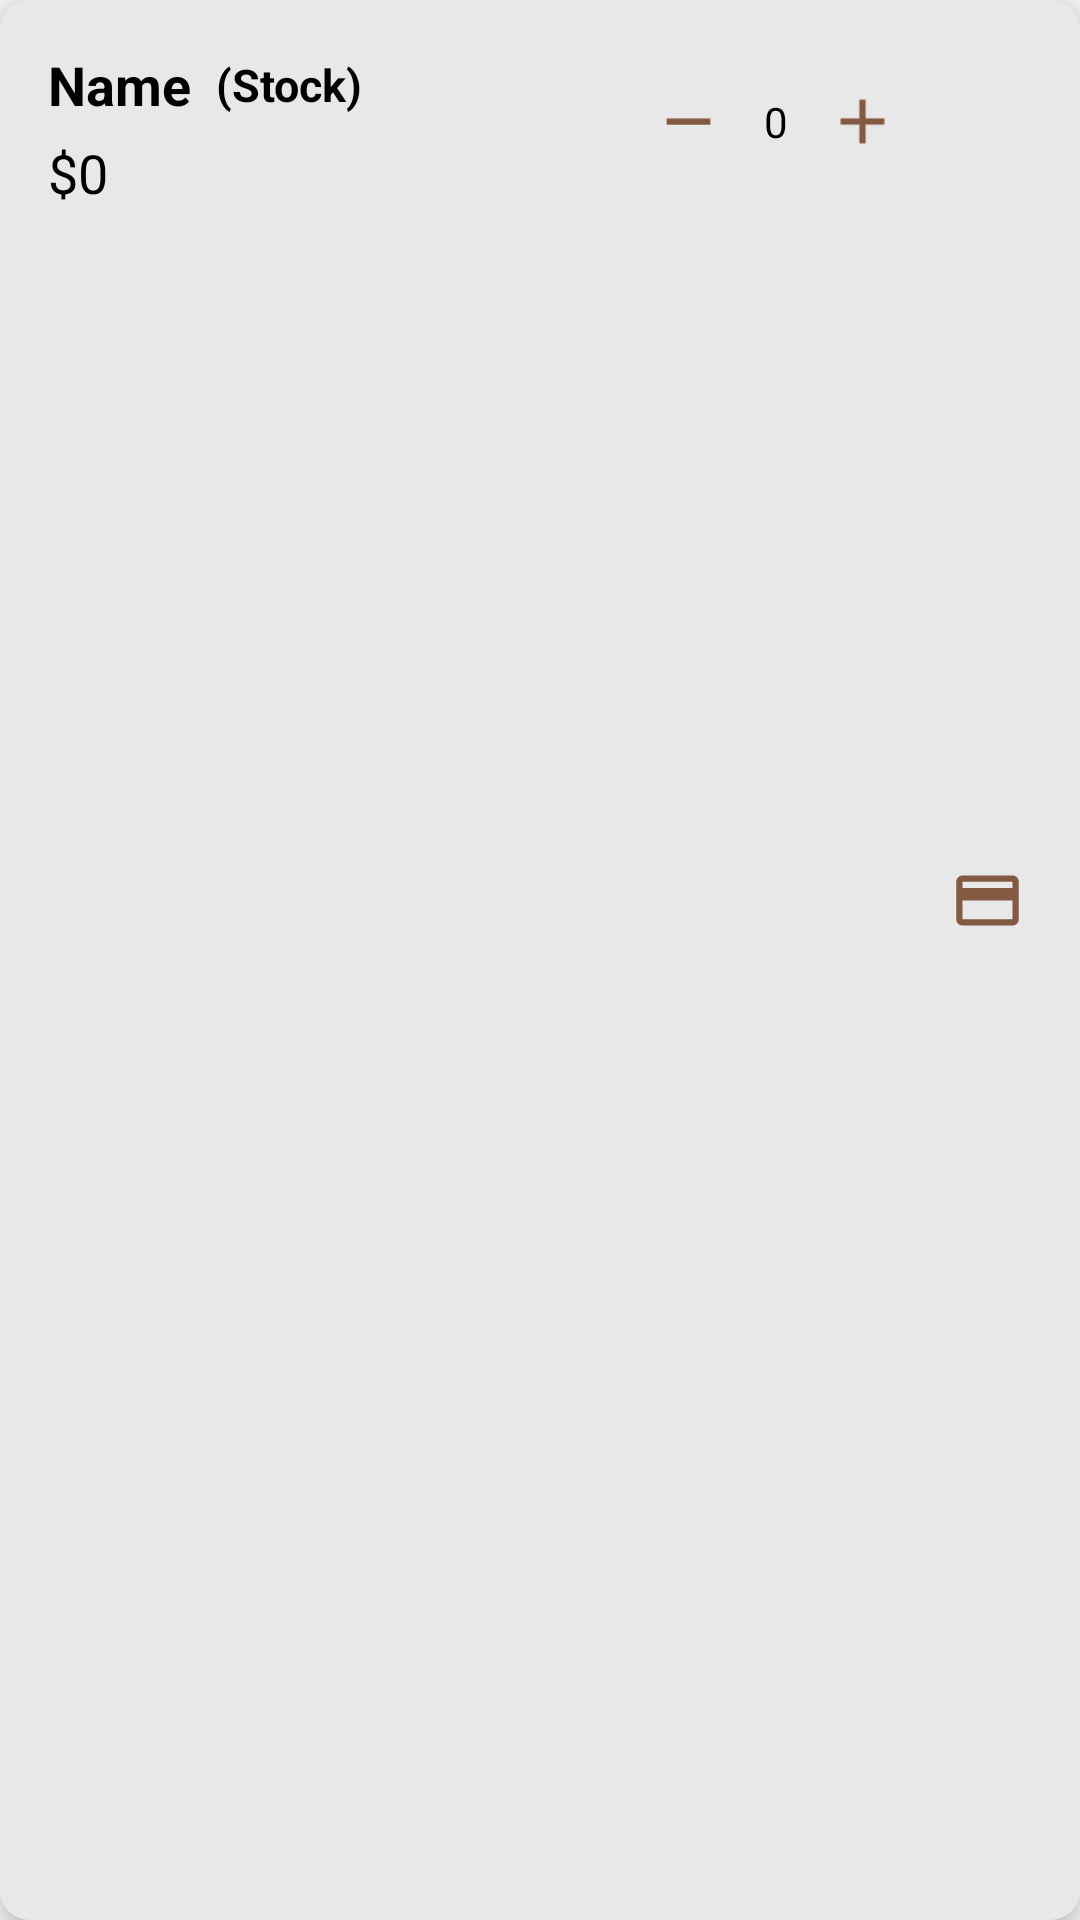

Where to tap for icons on this 1080*1920 app screen, as (x,y):
add: (862,121)
payment: (987,900)
